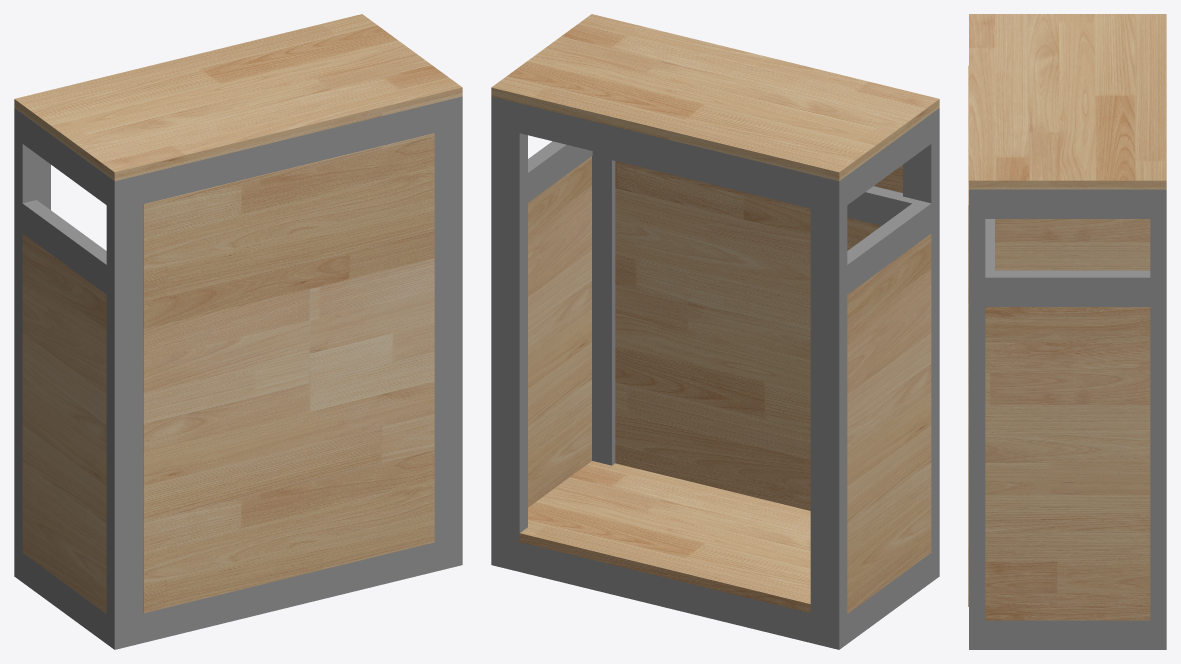
3 renders of one model, left to right at view 1: azimuth 30°, elevation 25°; view 2: azimuth 150°, elevation 25°; view 3: azimuth 270°, elevation 25°, orthographic.
Parts seen in each view (by area): view 1: Root Node, 188466; view 2: Root Node, 188466; view 3: Root Node, 188466.
Part boxes in pixels (left/top/right/bottom): Root Node: left=14, top=14, right=462, bottom=613; 188466: left=14, top=96, right=462, bottom=649; Root Node: left=491, top=14, right=939, bottom=613; 188466: left=491, top=96, right=939, bottom=649; Root Node: left=968, top=14, right=1166, bottom=620; 188466: left=969, top=189, right=1166, bottom=649.
Bounding box in the file's own units: 0.61 × 0.8 × 0.306.
132 materials, 31 textured.
